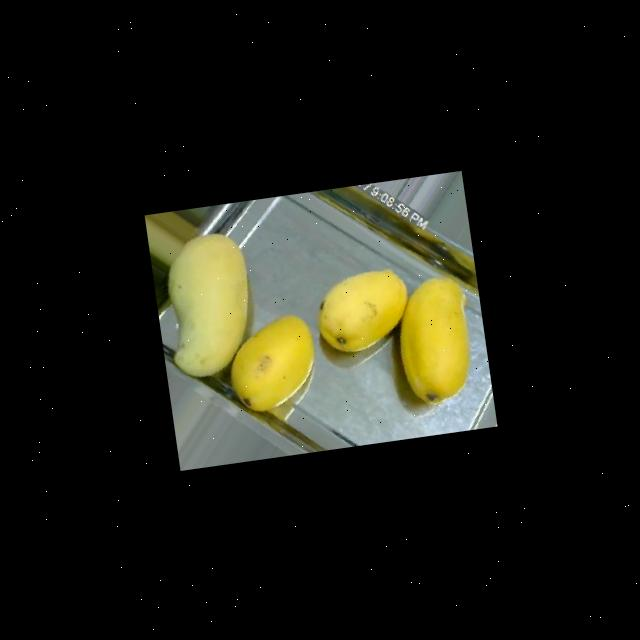Mango: (155, 228, 259, 379), (389, 272, 478, 408), (222, 310, 321, 414), (310, 265, 413, 355)
